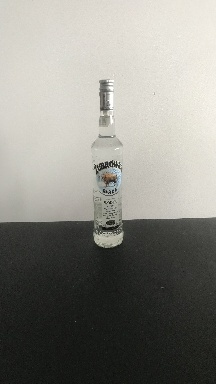butelka: (89, 77, 124, 251)
